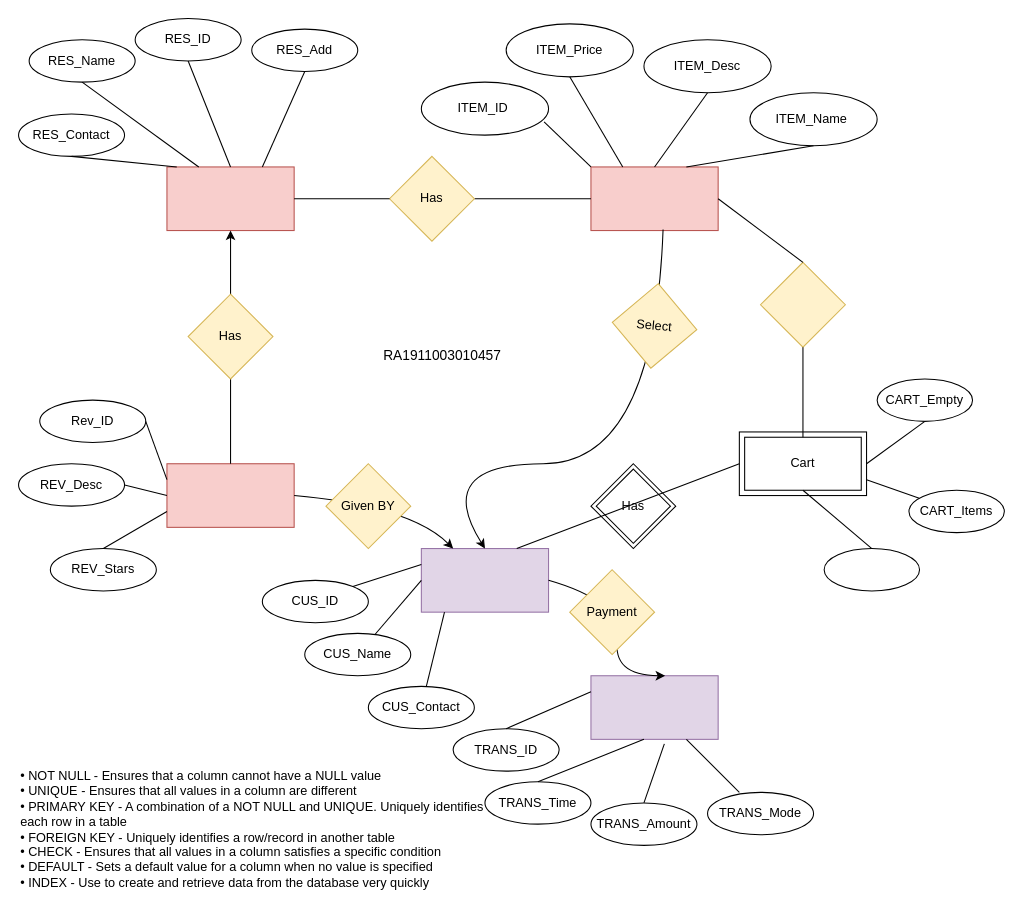
Some shapes in this 1023 by 912 pixel diagram are drawn without their labels. The shapes that lost their labels are listed below. From the top down, each one's box as (x1, y1, x2, y2) in pixels, then its label:
(166, 166, 294, 231): Resturant
(590, 166, 718, 231): Items
(759, 261, 845, 347): GoesTo
(166, 463, 294, 527): Reviews
(420, 547, 549, 612): Customers
(823, 547, 920, 591): CART_Total
(590, 675, 718, 739): Transactions
